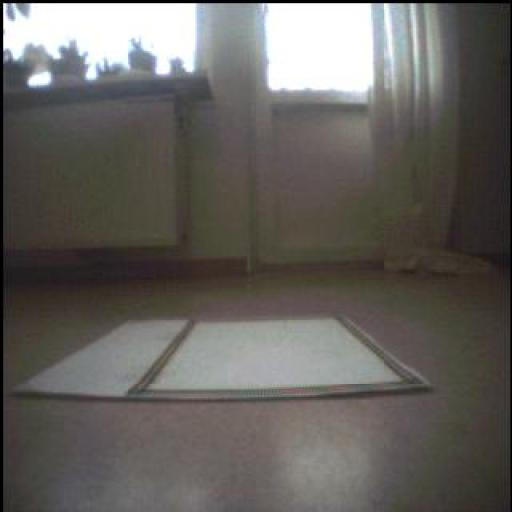Pad: (11, 302, 430, 394)
